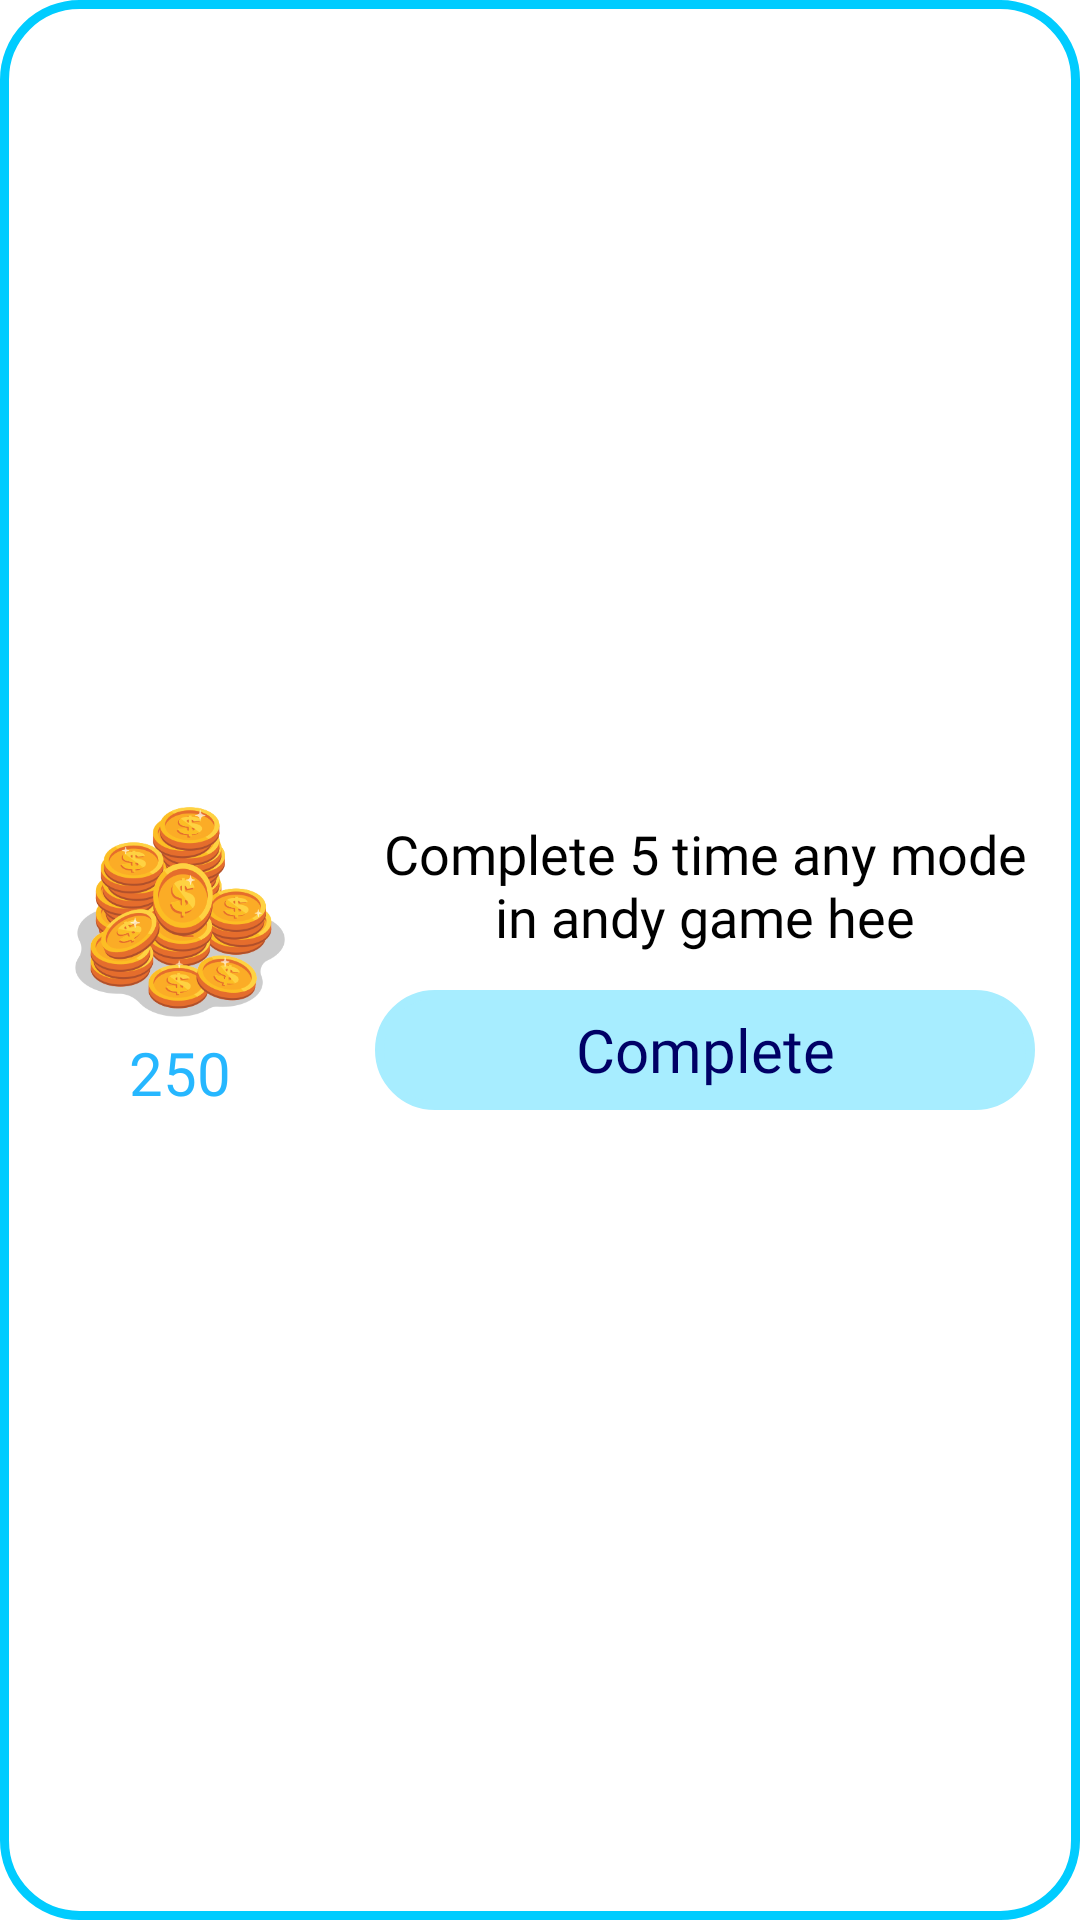

Where icons sit on this 1080w x 1920h app screen, as BBox(x1, y1, x2, y2):
coins: BBox(75, 807, 285, 1017)
